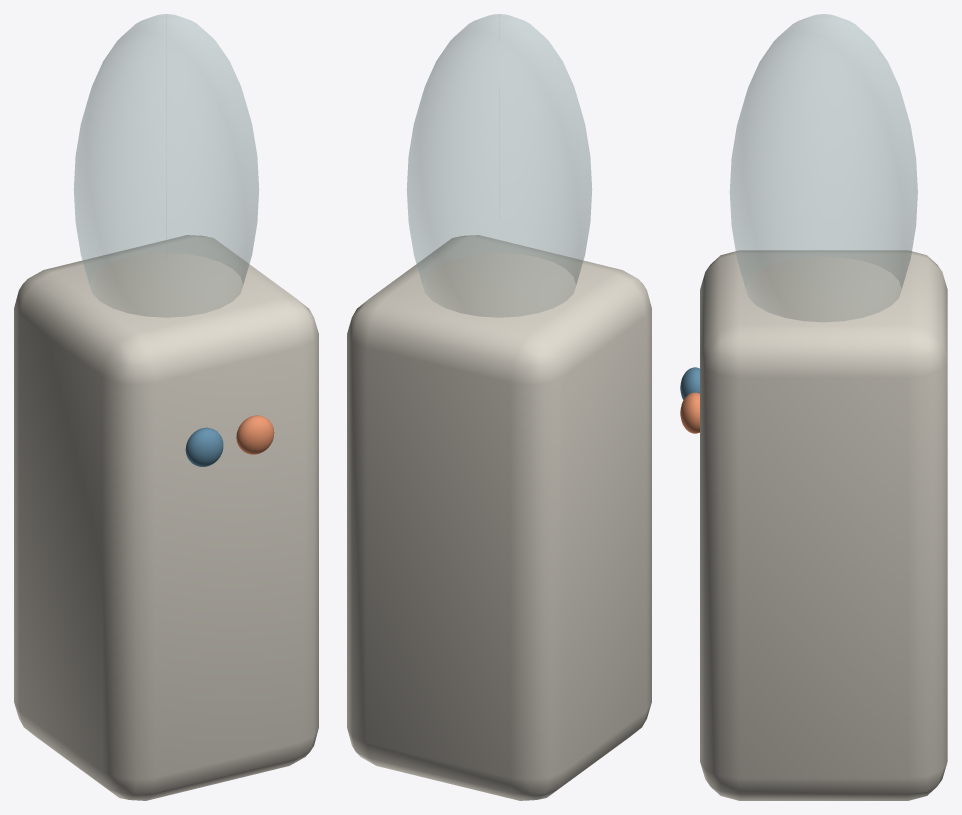
File: water-cooler.glb
3 renders of one model, left to right at view 1: azimuth 30°, elevation 25°; view 2: azimuth 150°, elevation 25°; view 3: azimuth 270°, elevation 25°, orthographic.
Parts seen in each view (by area): view 1: base.010, bottle, tap.001, tap; view 2: base.010, bottle; view 3: base.010, bottle, tap.001, tap.
Part boxes in pixels (x1,y1,x2,y2): base.010: (14, 235, 318, 800); bottle: (73, 14, 259, 317); tap.001: (236, 415, 274, 454); tap: (185, 427, 223, 466); base.010: (347, 235, 651, 800); bottle: (406, 14, 592, 317); base.010: (700, 250, 947, 800); bottle: (729, 14, 917, 321); tap.001: (680, 392, 699, 433); tap: (680, 367, 699, 399).
Size of the model in its own units: 0.42 by 1.39 by 0.4534.
